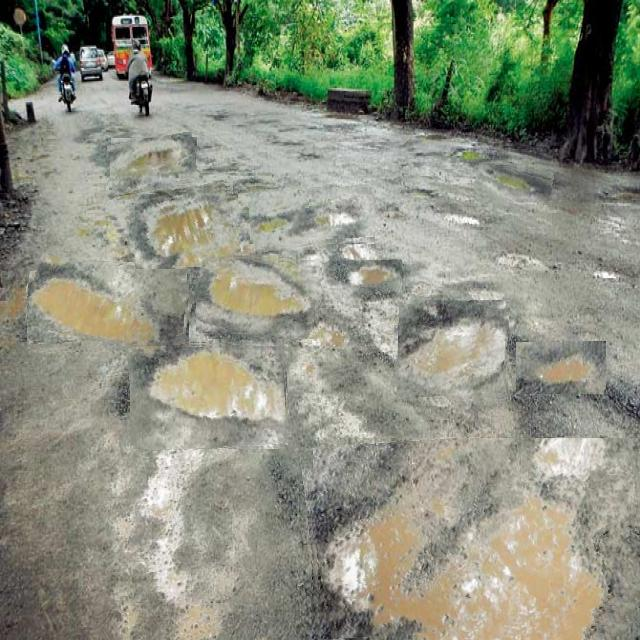Pothole: (307, 438, 640, 640), (130, 340, 290, 449), (27, 262, 192, 354), (394, 300, 510, 404), (196, 255, 323, 339), (135, 185, 238, 269), (250, 187, 376, 249), (109, 135, 199, 193), (516, 342, 606, 394), (475, 165, 553, 202), (349, 260, 402, 292)
